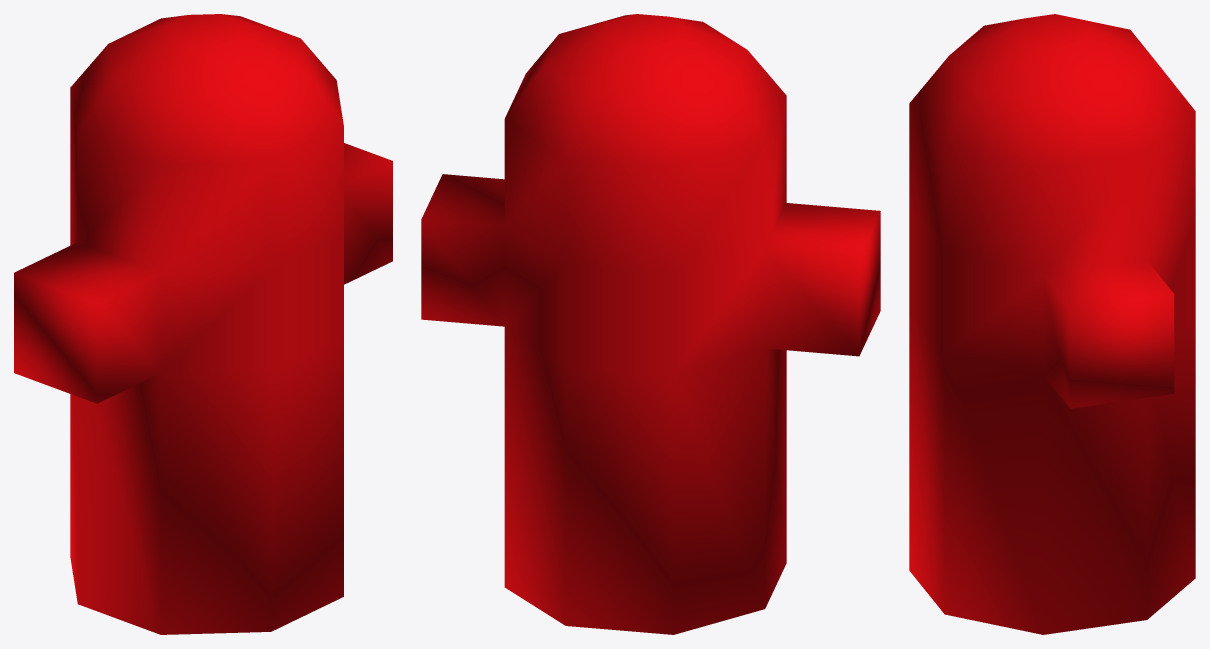
The model's file is Fire Hydrant.fbx.
3 views of the same model, side by side, from view 1: azimuth 30°, elevation 25°; view 2: azimuth 150°, elevation 25°; view 3: azimuth 270°, elevation 25° (orthographic).
Visible parts, largest first — view 1: Fire Hydrant; view 2: Fire Hydrant; view 3: Fire Hydrant.
Boxes of the visible parts, x1,y1,x2,y2 form: Fire Hydrant: (14, 14, 392, 634); Fire Hydrant: (421, 14, 880, 634); Fire Hydrant: (909, 14, 1195, 634).
Size of the model in its own units: 29.91 by 39.16 by 18.72.
